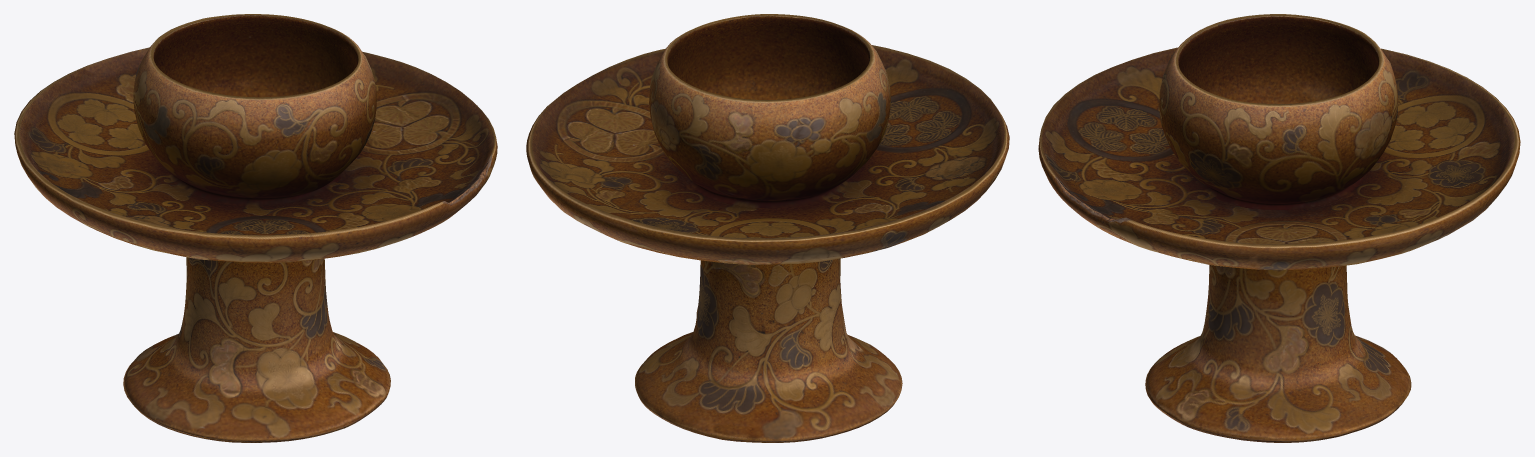
The picture shows the model from 3 angles, left to right: view 1: azimuth 30°, elevation 25°; view 2: azimuth 150°, elevation 25°; view 3: azimuth 270°, elevation 25°; orthographic projection.
Visible parts, largest first — view 1: LacaUrushi_0; view 2: LacaUrushi_0; view 3: LacaUrushi_0.
Boxes of the visible parts, <box> form: LacaUrushi_0: <box>14,14,497,442</box>; LacaUrushi_0: <box>526,14,1009,442</box>; LacaUrushi_0: <box>1038,14,1520,442</box>.
Size of the model in its own units: 0.1566 by 0.1196 by 0.1576.
1 material, 1 textured.
